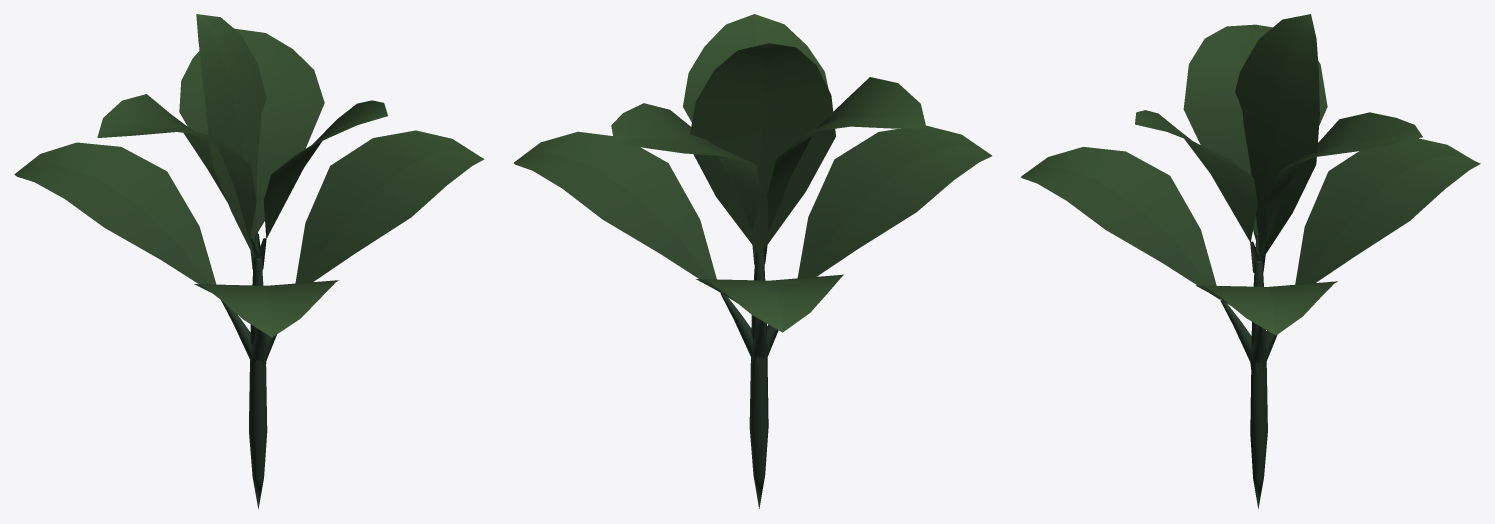
The model's file is plants-leafy-plants-leaf-rosette_v2.glb.
The picture shows the model from 3 angles, left to right: view 1: azimuth 30°, elevation 25°; view 2: azimuth 150°, elevation 25°; view 3: azimuth 270°, elevation 25°; orthographic projection. The views are drawn at different scales.
Parts seen in each view (by area): view 1: Leaf Rosette_v2; view 2: Leaf Rosette_v2; view 3: Leaf Rosette_v2.
Part boxes in pixels (box(x1,y1,x2,y2)): Leaf Rosette_v2: box(14, 14, 484, 509); Leaf Rosette_v2: box(514, 14, 991, 508); Leaf Rosette_v2: box(1021, 14, 1480, 508).
Bounding box in the file's own units: 0.4252 × 0.5 × 0.4352.
